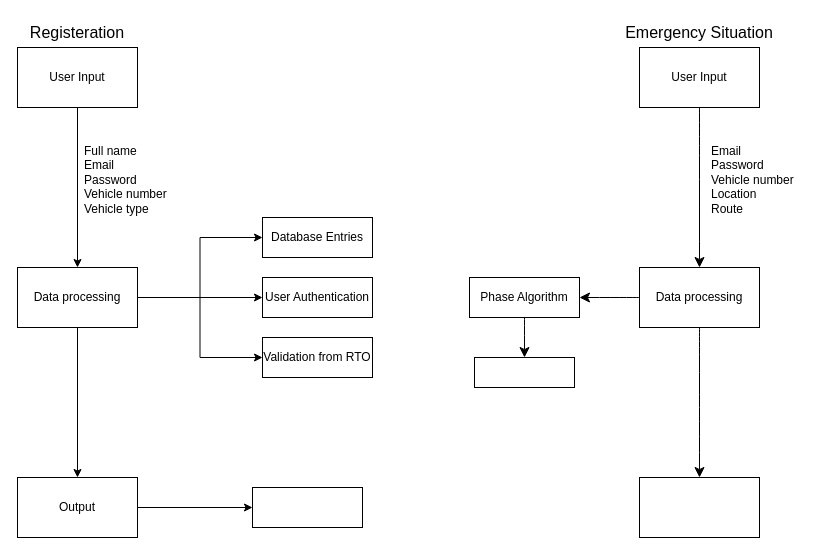
Some shapes in this 817 by 555 pixel diagram are drawn without their labels. The centre of each missing label's shape, as x and y in pixels:
"Access to RTO for Green Corridor" belongs at [307,507].
"Green Corridor (Output)" belongs at [699,507].
"Permission from RTO" belongs at [524,372].
